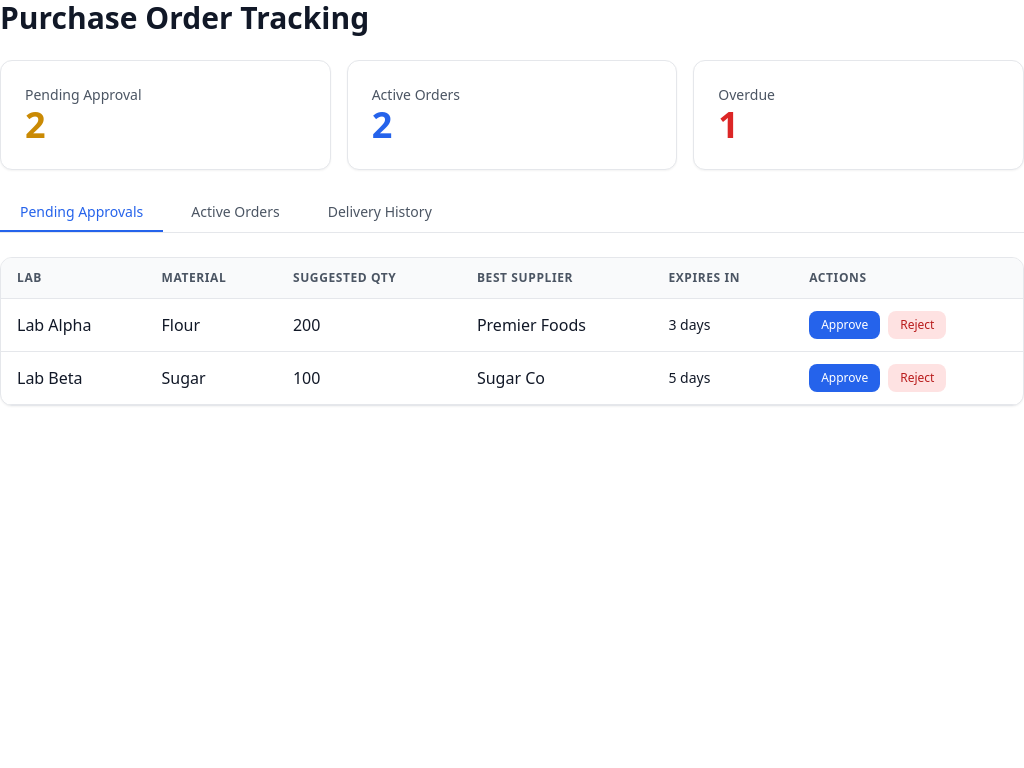
Test case: POTrackingPage — 3-tab architecture › opens Mark Received modal with date picker when button clicked
Click the tab "Active Orders" at coordinates (236, 213), box left=171, top=194, right=300, bottom=232
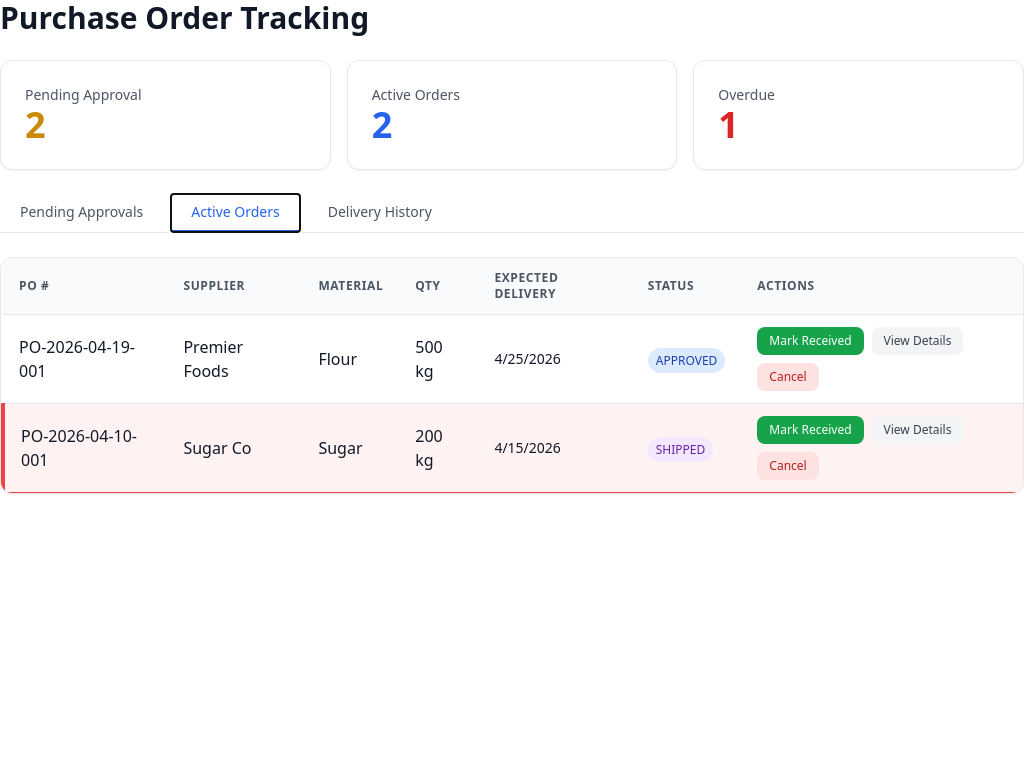
Check: the number of buttons "Mark Received" is 2
Click the button "Mark Received" in the row of "PO-2026-04-19-001" at coordinates (810, 341), box left=757, top=327, right=864, bottom=355
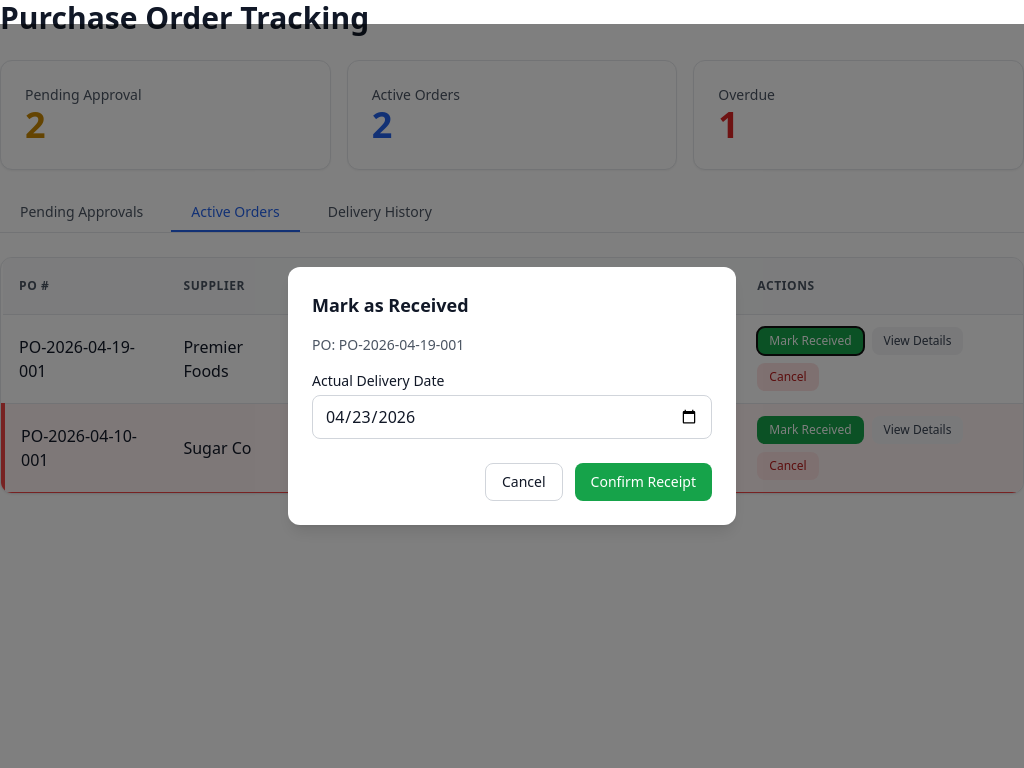
Check: the dialog "Mark as Received" is shown
Check: the date field labelled "Actual Delivery Date" is shown, box left=312, top=395, right=712, bottom=439
